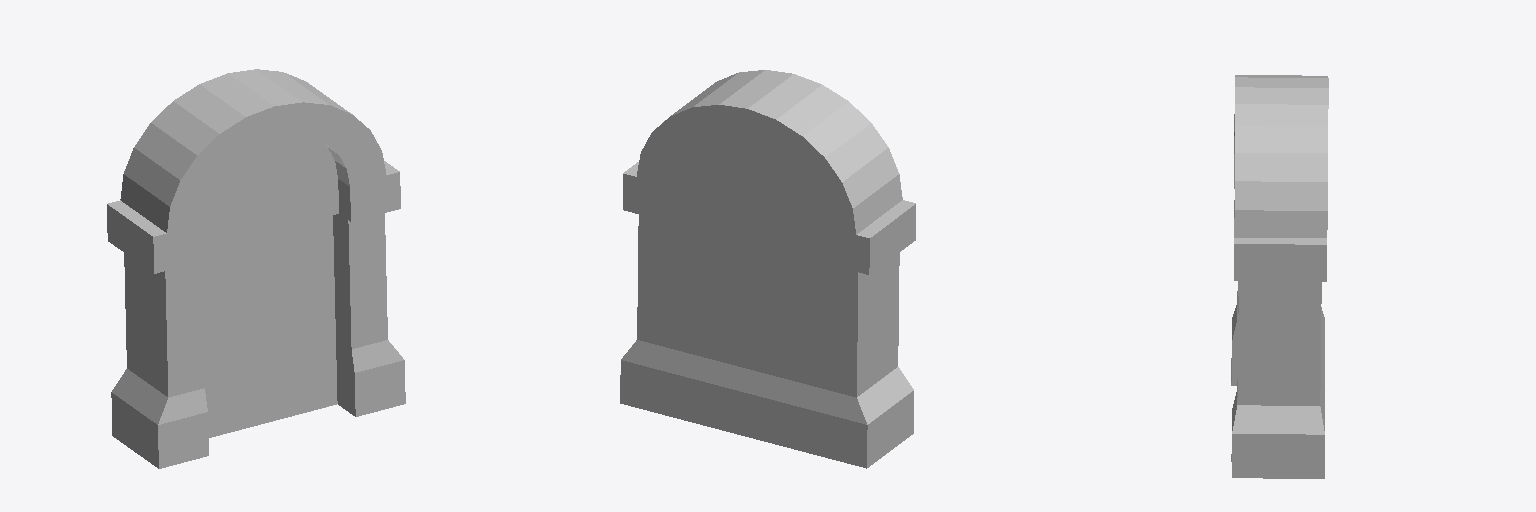
The model's file is Gravestone_Round_3.obj.
3 renders of one model, left to right at view 1: azimuth 30°, elevation 25°; view 2: azimuth 150°, elevation 25°; view 3: azimuth 270°, elevation 25°, orthographic.
Parts seen in each view (by area): view 1: Gravestone_Round_3; view 2: Gravestone_Round_3; view 3: Gravestone_Round_3.
Part boxes in pixels (x1,y1,x2,y2): Gravestone_Round_3: (107,69,405,468); Gravestone_Round_3: (620,70,915,468); Gravestone_Round_3: (1231,75,1328,478).
Size of the model in its own units: 0.5552 by 0.7047 by 0.1859.